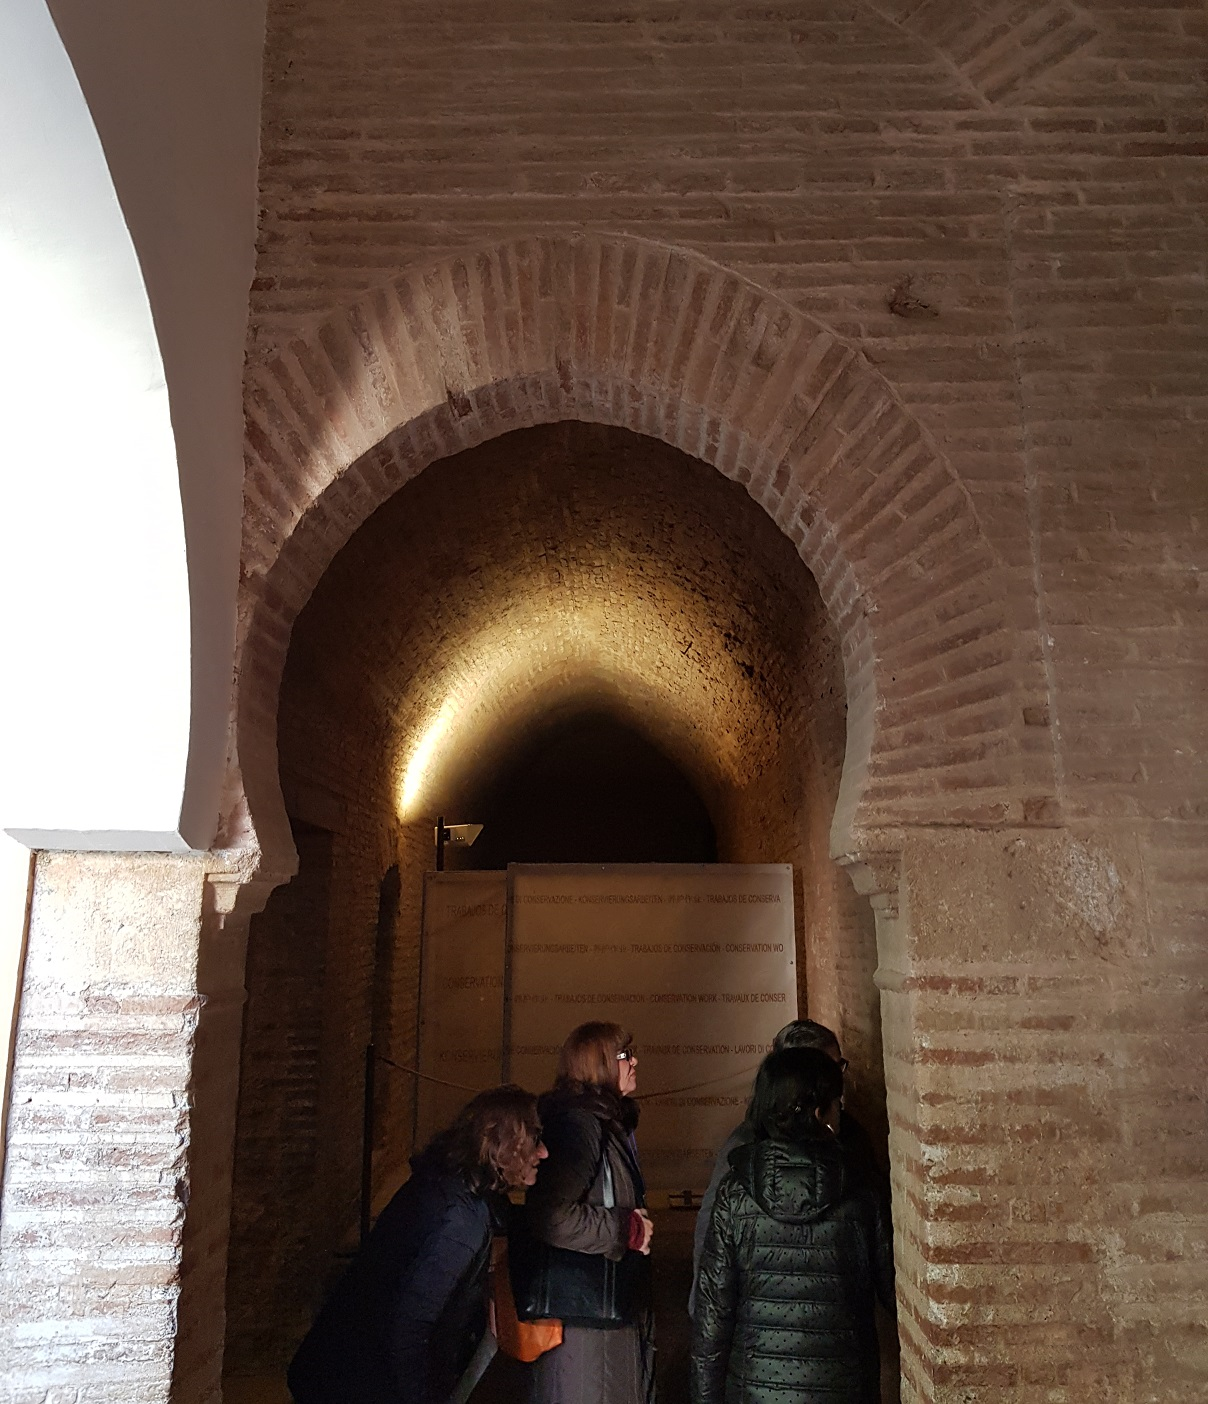arco-herradura: (195, 345, 947, 961)
